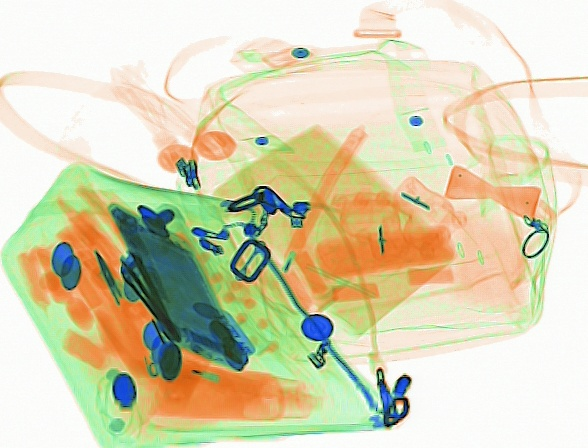scissors: (90, 247, 122, 309)
